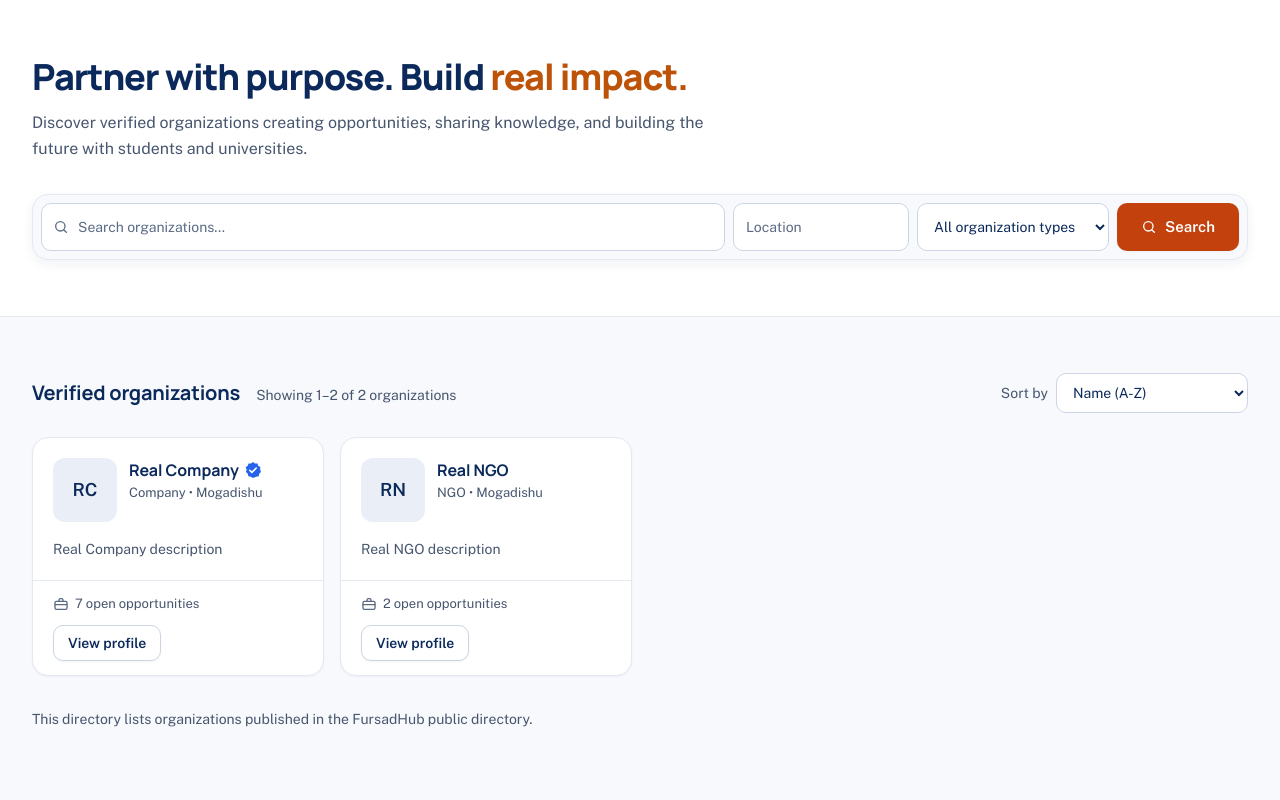
Test: remaining public pages › renders organizations from the real public organization directory and filters by type
The image size is (1280, 800).
expect the heading "Real Company" is shown: met, box 129,458 -> 239,482
expect the heading "Real NGO" is shown: met, box 437,458 -> 508,482
Select "NGO" in the dropdown named "Organization type" at point(1013, 228), box 917,204 -> 1109,252
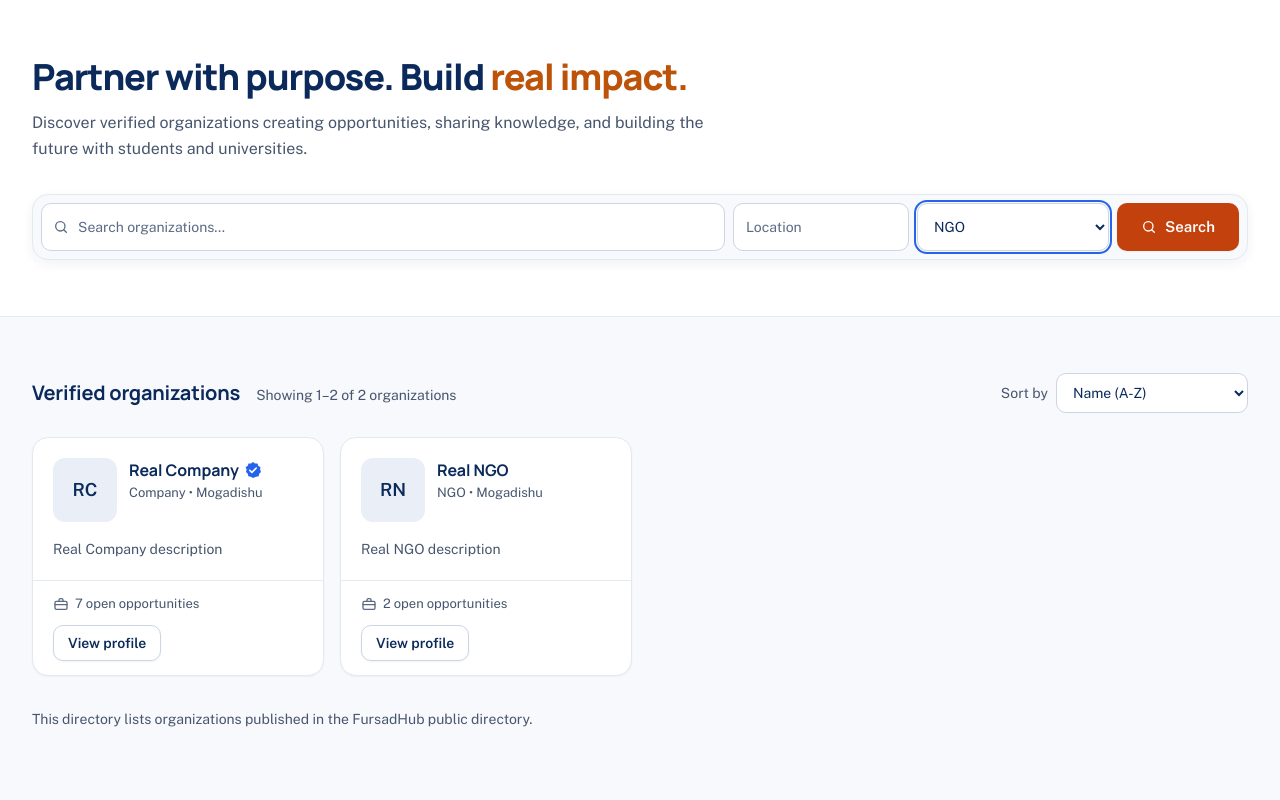
Click the button "Search" at point(1178, 228), box 1117,204 -> 1239,252
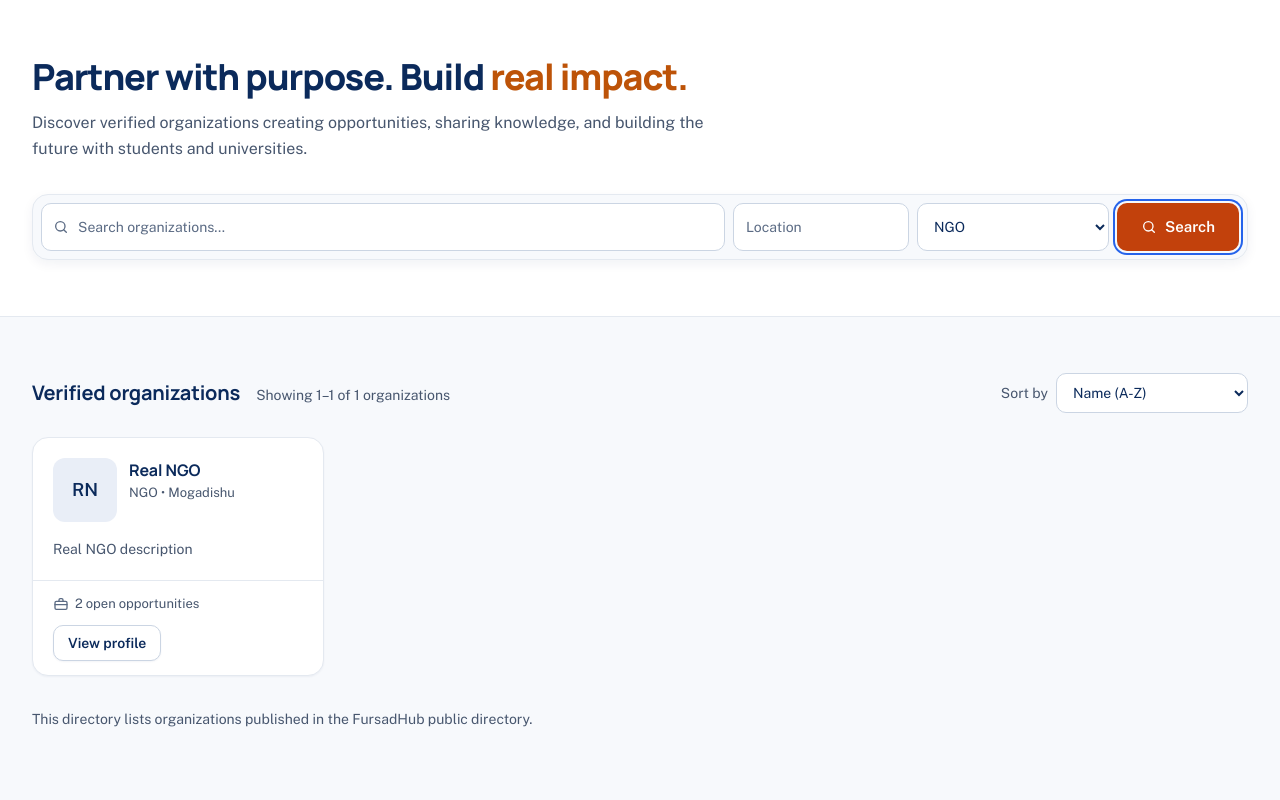
expect the heading "Real NGO" is shown: met, box 129,458 -> 200,482
expect the heading "Real Company" is gone: met
